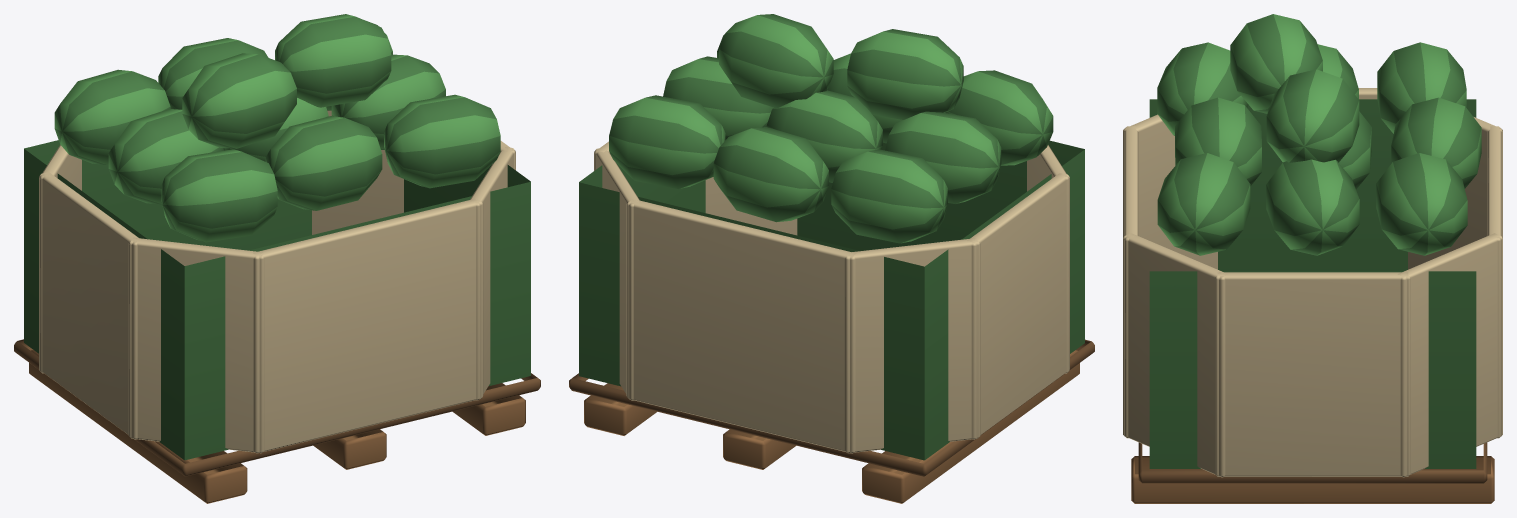
File: WatermelonBin_01.glb
3 views of the same model, side by side, from view 1: azimuth 30°, elevation 25°; view 2: azimuth 150°, elevation 25°; view 3: azimuth 270°, elevation 25° (orthographic).
Parts seen in each view (by area): view 1: SM_WatermelonBin_01; view 2: SM_WatermelonBin_01; view 3: SM_WatermelonBin_01.
Part boxes in pixels (x1,y1,x2,y2): SM_WatermelonBin_01: (14, 14, 540, 503); SM_WatermelonBin_01: (569, 14, 1094, 503); SM_WatermelonBin_01: (1123, 14, 1502, 503).
Size of the model in its own units: 1.25 by 1.13 by 1.05.
1 material, 1 textured.
